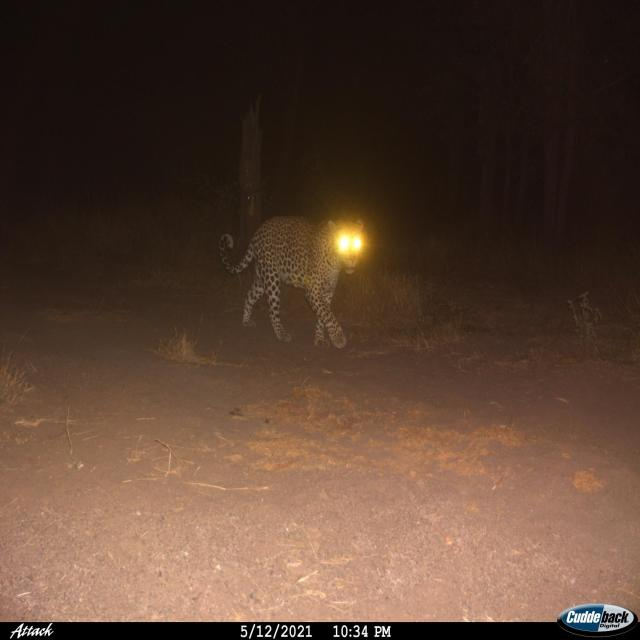Leopard: (212, 201, 357, 355)
